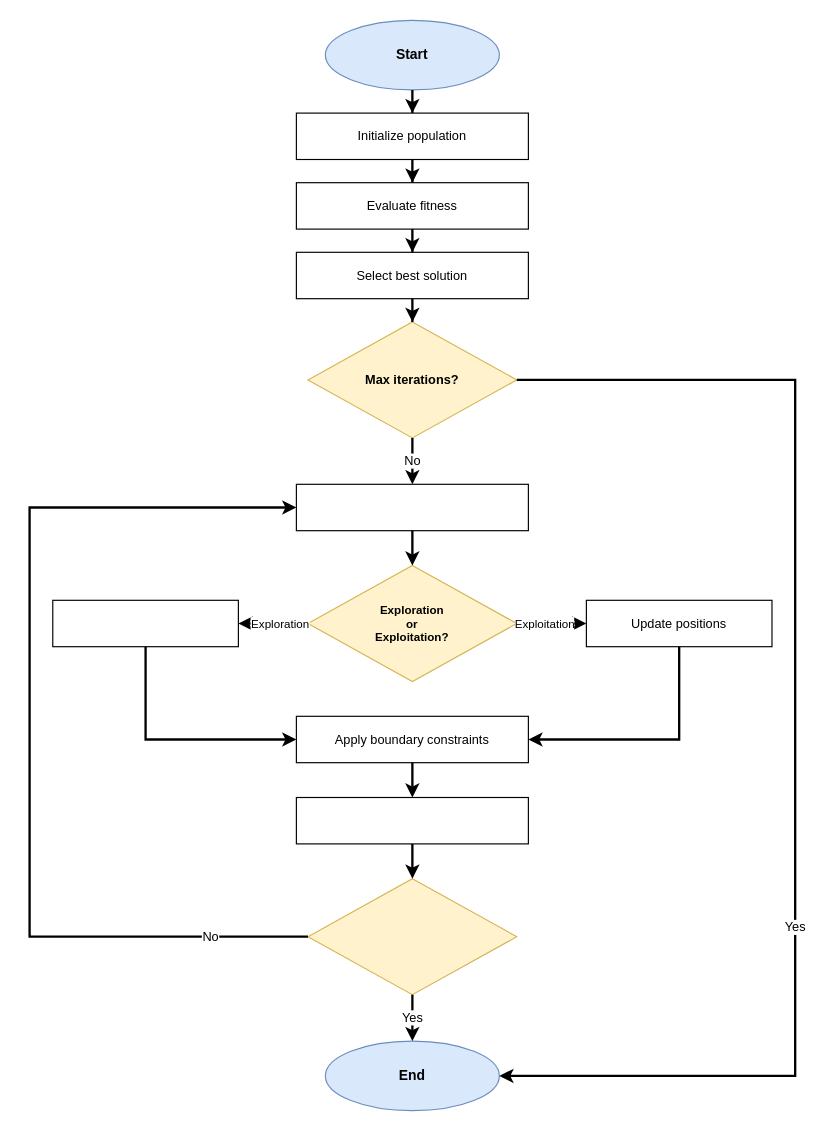
Some shapes in this 825 by 1131 pixel diagram are drawn without their labels. The shapes that lost their labels are listed below. From the top down, each one's centre as x and y in pixels, then its label:
At (x=411, y=507): "Update vocalization influence".
At (x=145, y=623): "Random exploration".
At (x=411, y=820): "Evaluate new fitness".
At (x=412, y=936): "Convergence met?".
